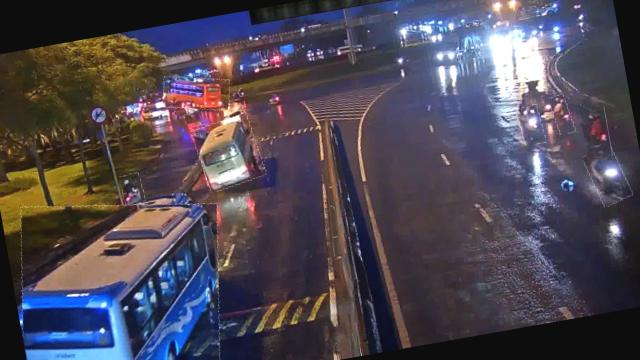Bike: (584, 144, 631, 208), (578, 106, 612, 160), (517, 104, 546, 146), (550, 92, 574, 136), (120, 172, 146, 205)
Bus: (2, 181, 240, 360), (192, 113, 266, 192), (160, 69, 232, 117)
Car: (225, 104, 248, 127)
